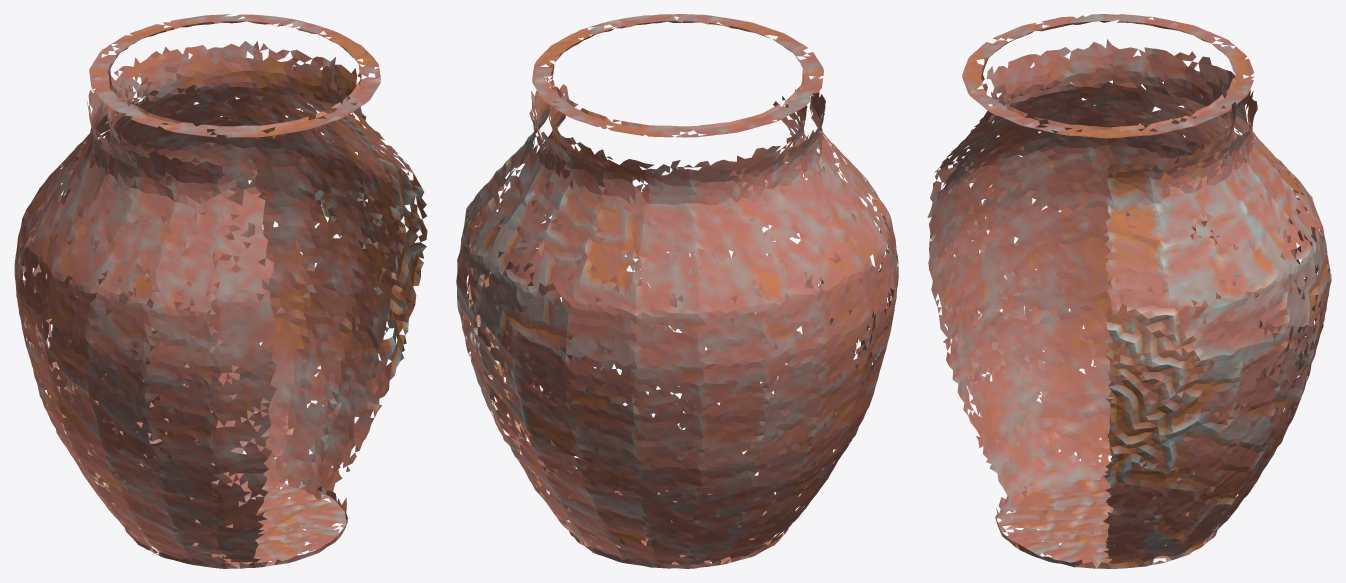
Rendered from vase2_final200.obj.
The picture shows the model from 3 angles, left to right: view 1: azimuth 30°, elevation 25°; view 2: azimuth 150°, elevation 25°; view 3: azimuth 270°, elevation 25°; orthographic projection.
Size of the model in its own units: 1.5 by 1.69 by 1.37.
